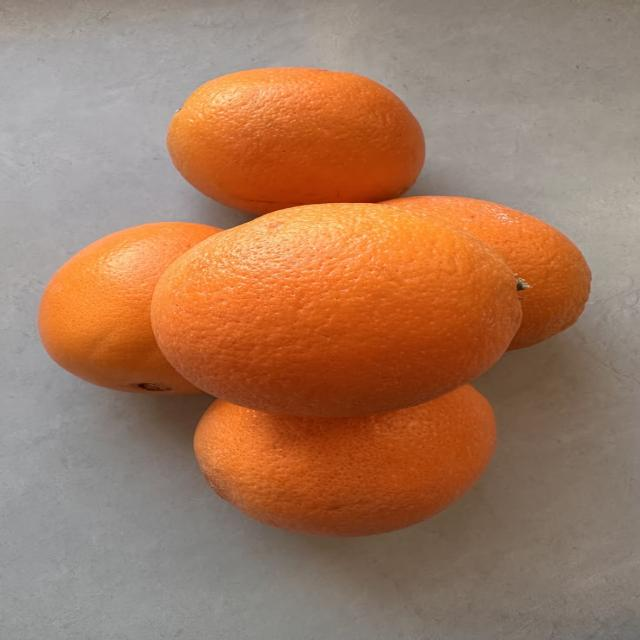orange: (152, 204, 520, 416), (194, 386, 495, 535), (167, 68, 424, 214), (387, 197, 591, 349), (40, 223, 219, 393)
